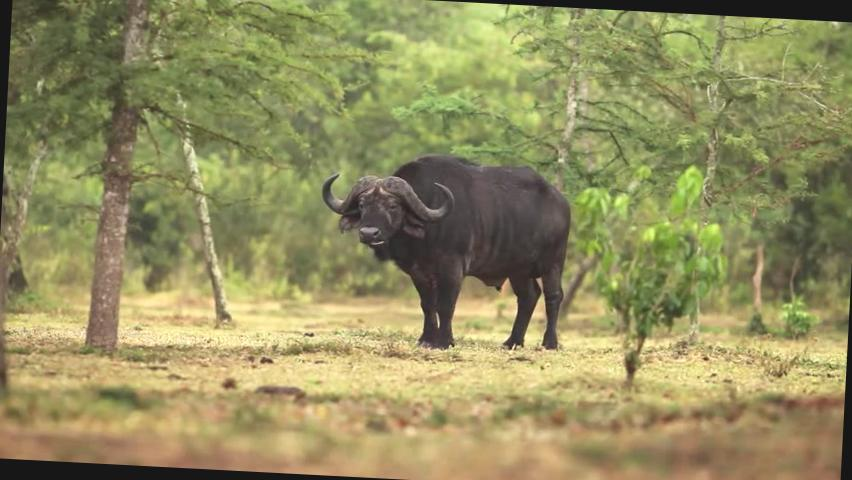Buffalo: (225, 50, 674, 420)
